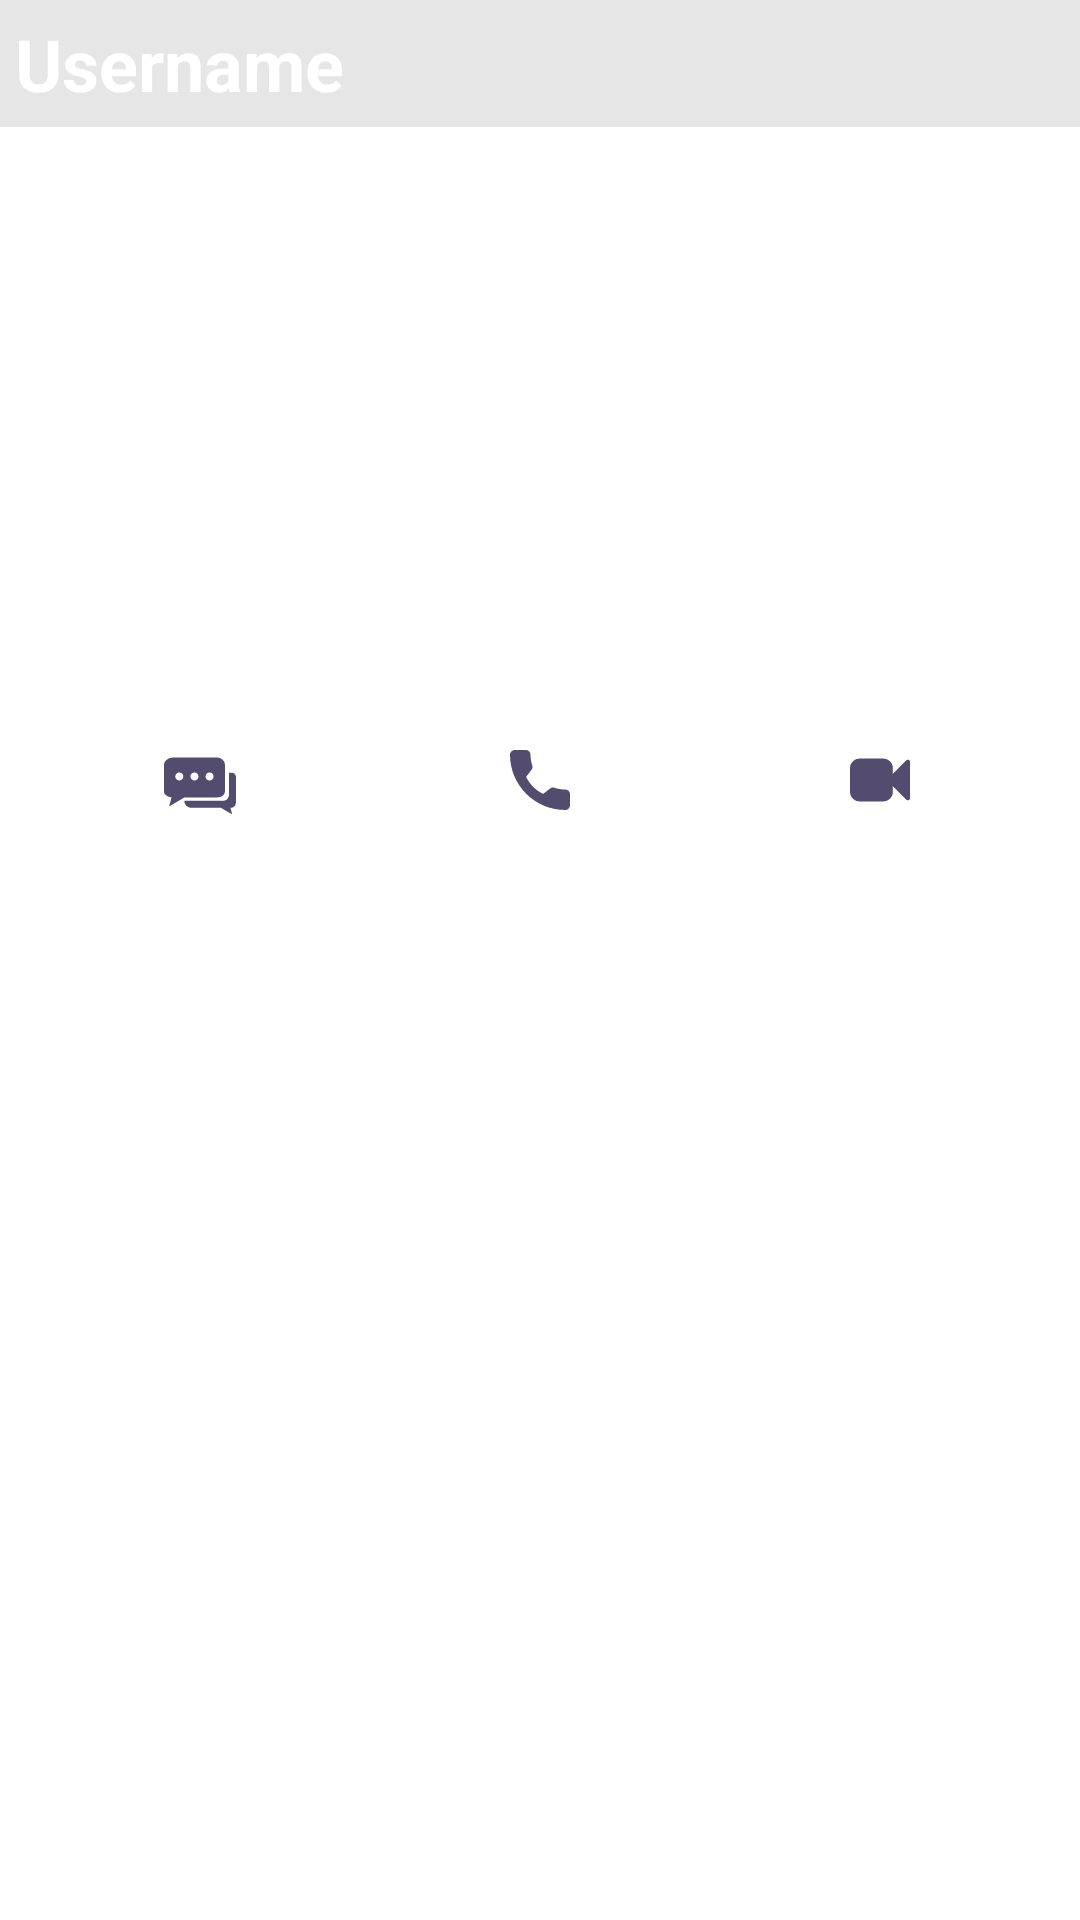

Icons on this 1080 × 1920 Android screen, each with the point to tap as (x,y):
pcall: (540,780)
vcall: (880,780)
